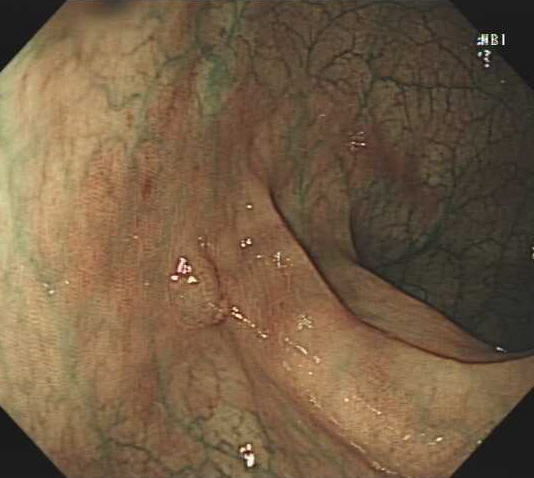others: (157, 248, 223, 330)
